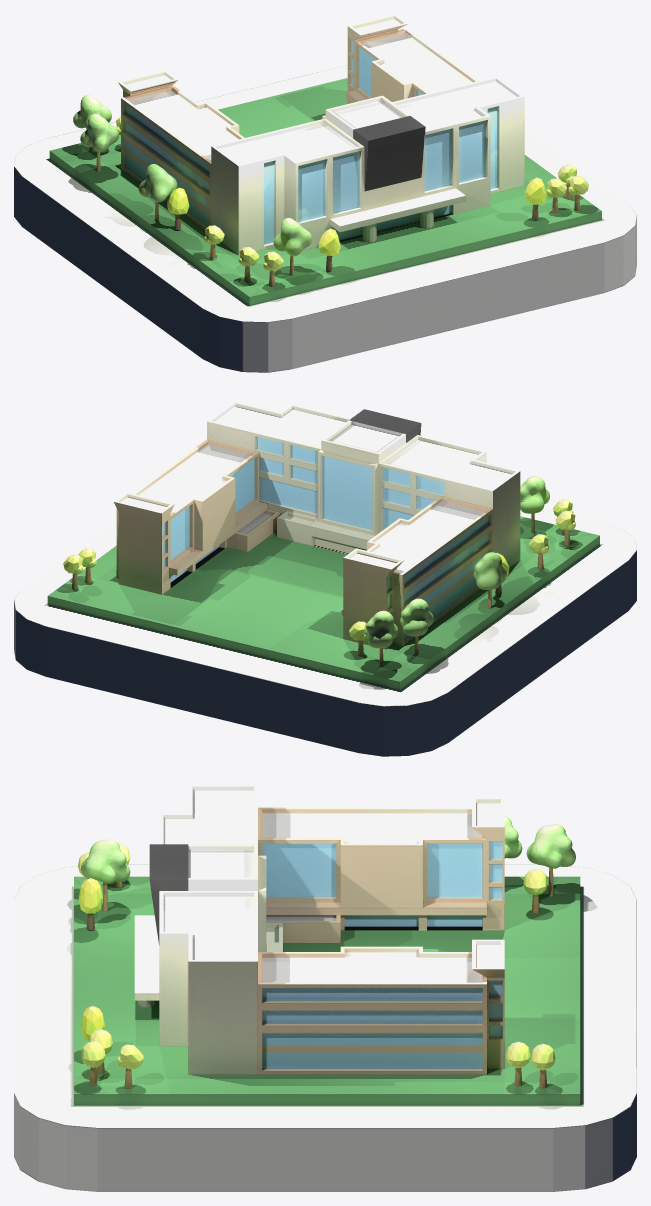
3 views of the same model, one above another, from view 1: azimuth 30°, elevation 25°; view 2: azimuth 150°, elevation 25°; view 3: azimuth 270°, elevation 25° (orthographic). The views are drawn at different scales.
Visible parts, largest first — view 1: 法政學院1, Cube, 1, Cylinder.1203; view 2: 法政學院1, Cube, 1, Cylinder.1203; view 3: 法政學院1, Cube, 1, Cylinder.1203.
Part boxes in pixels (x1,y1,x2,y2): 法政學院1: [118, 14, 524, 255]; Cube: [14, 65, 636, 372]; 1: [49, 78, 601, 305]; Cylinder.1203: [73, 95, 588, 286]; 法政學院1: [114, 401, 520, 649]; Cube: [14, 508, 636, 756]; 1: [47, 516, 599, 690]; Cylinder.1203: [63, 476, 575, 666]; 法政學院1: [134, 785, 504, 1074]; Cube: [14, 864, 636, 1191]; 1: [74, 876, 580, 1105]; Cylinder.1203: [78, 816, 575, 1088].
Size of the model in its own units: 15 by 5.3 by 15.
Materials: 12 (12 with a texture image).
